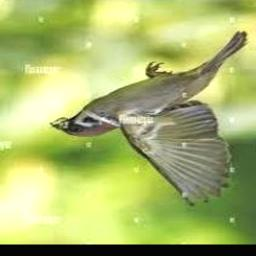Sparrow: (51, 32, 248, 206)
